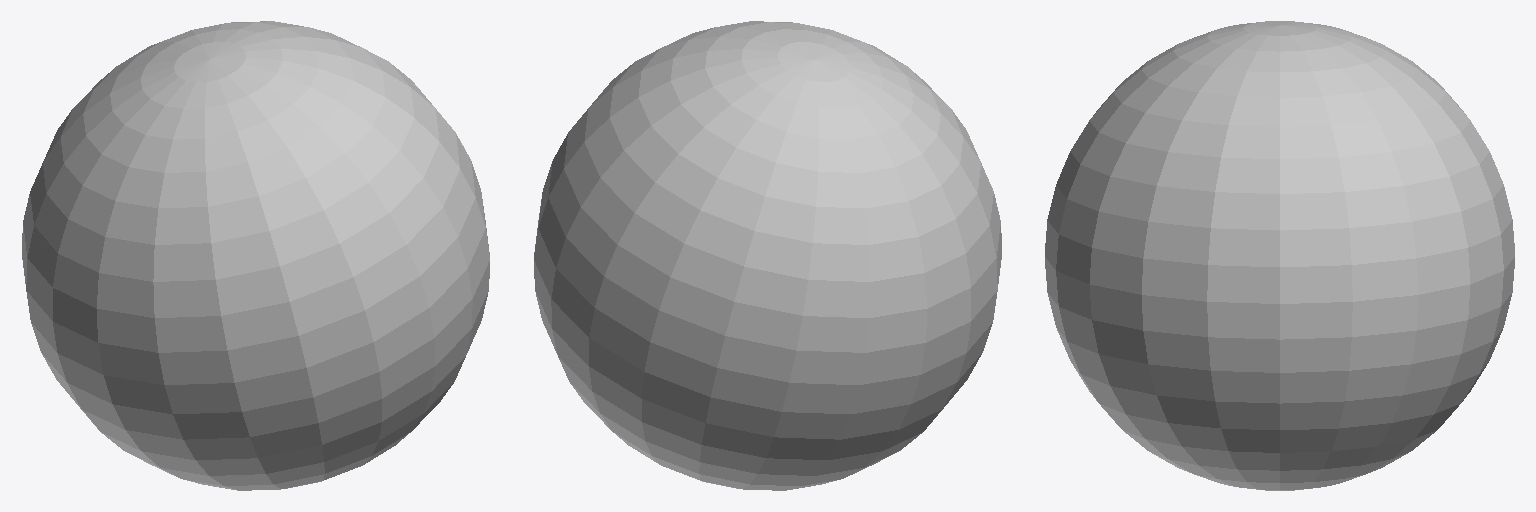
Rendered from blackhole_outside3.obj.
The picture shows the model from 3 angles: view 1: azimuth 30°, elevation 25°; view 2: azimuth 150°, elevation 25°; view 3: azimuth 270°, elevation 25°; orthographic projection.
Size of the model in its own units: 637 by 637 by 639.